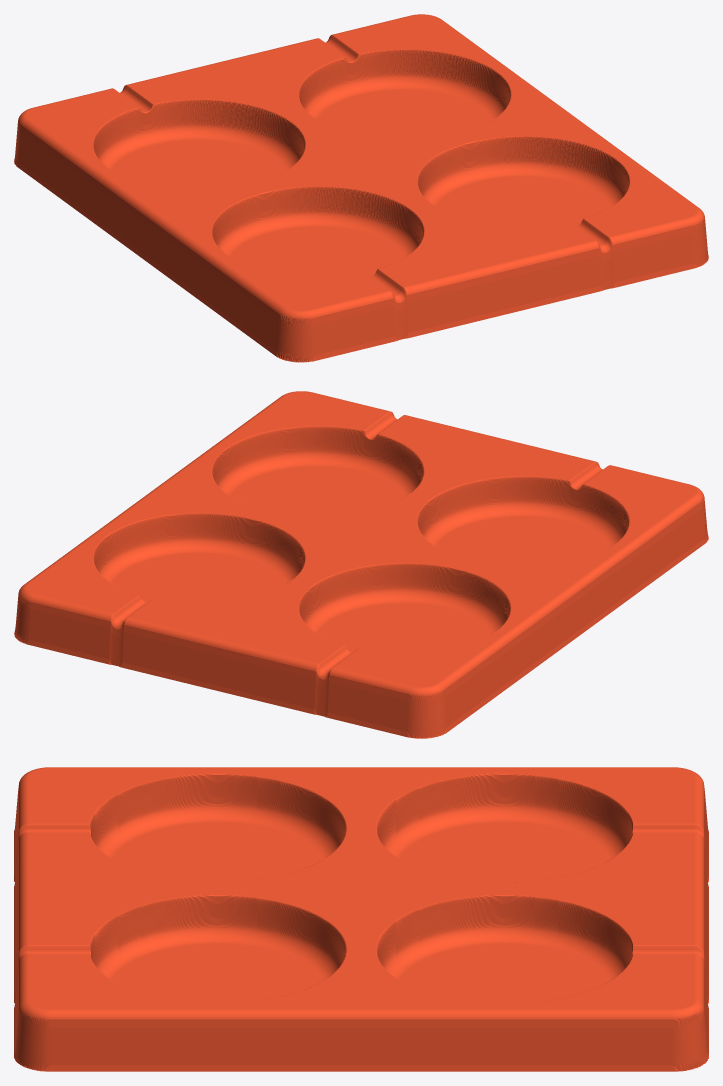
Rendered from mold.glb.
3 views of the same model, one above another, from view 1: azimuth 30°, elevation 25°; view 2: azimuth 150°, elevation 25°; view 3: azimuth 270°, elevation 25° (orthographic). The views are drawn at different scales.
Visible parts, largest first — view 1: geometry_0; view 2: geometry_0; view 3: geometry_0.
Part boxes in pixels (left/top/right/bottom): geometry_0: left=14, top=14, right=708, bottom=362; geometry_0: left=14, top=391, right=708, bottom=738; geometry_0: left=14, top=767, right=708, bottom=1071.
Size of the model in its own units: 0.1497 by 0.0155 by 0.1735.
